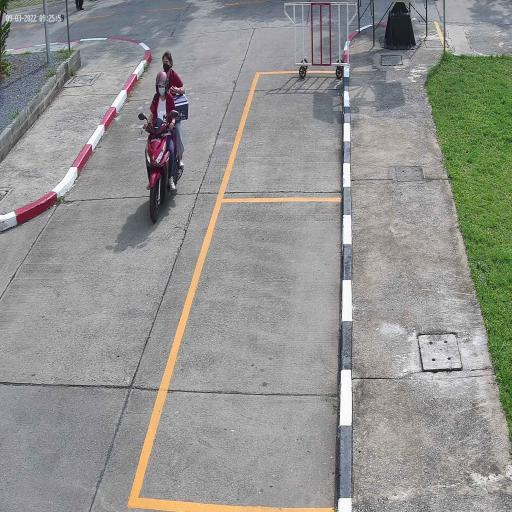motorcycle: (144, 118, 170, 224)
